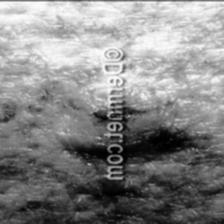Potentially Malignant Skin Tumors: (50, 79, 174, 153)
